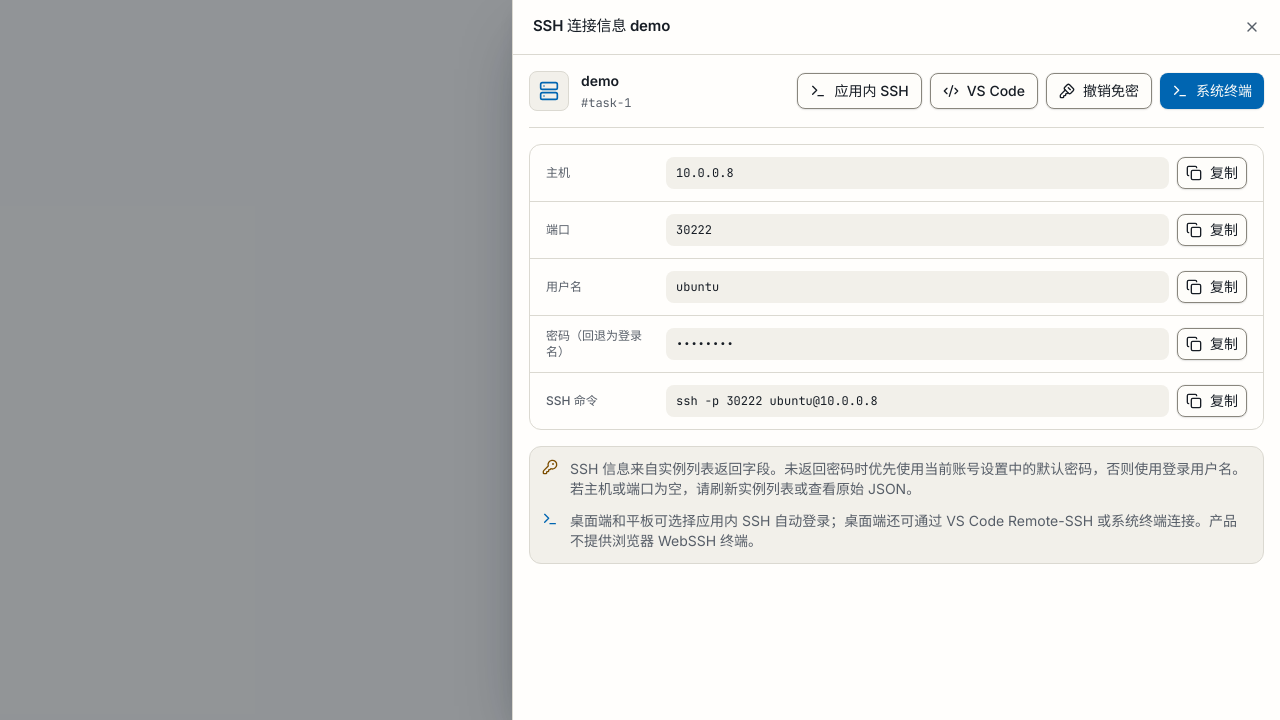
Test: TerminalDialog › shows desktop SSH entry points in the desktop runtime
This screenshot has width=1280, height=720.
Expected: the button "应用内 SSH" is shown, [797,73,922,109]
What coordinates should you click on to do the following:
click the button "VS Code"
I would click on:
 (984, 91)
Its box is [930,73,1038,109].
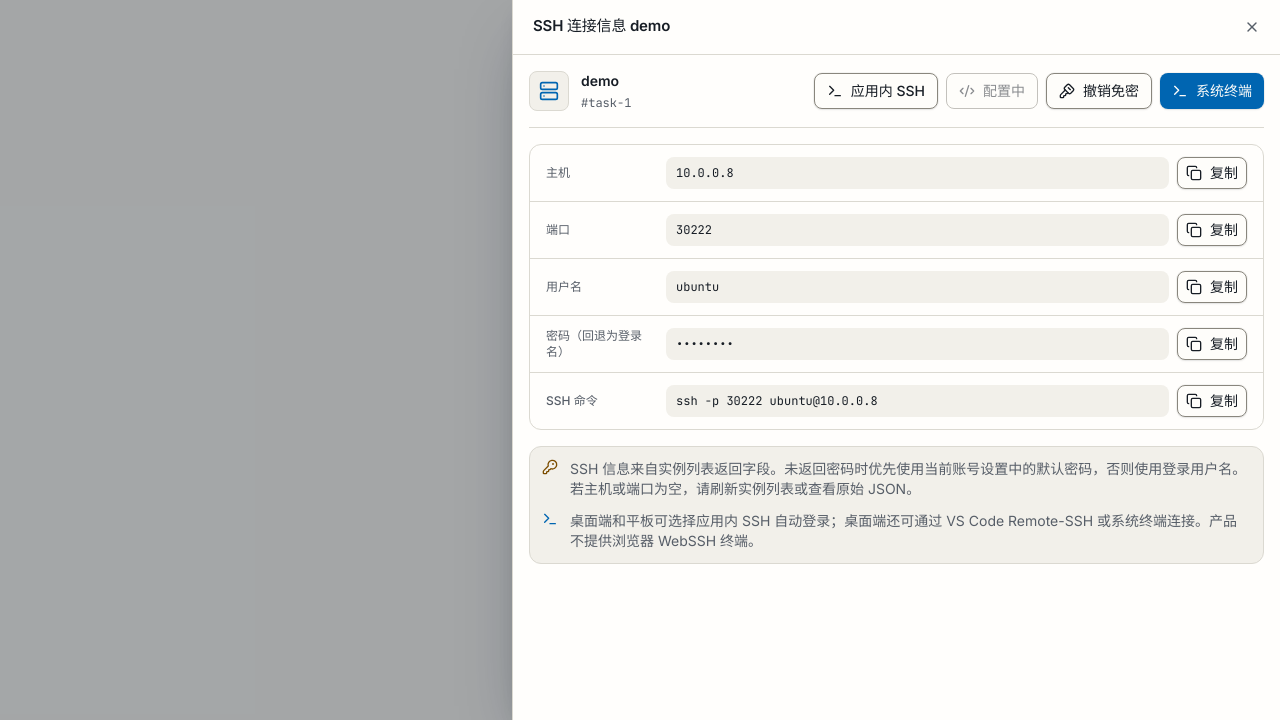
What coordinates should you click on to do the following:
click the button "系统终端"
I would click on:
 (1212, 91)
Its box is [1160,73,1264,109].
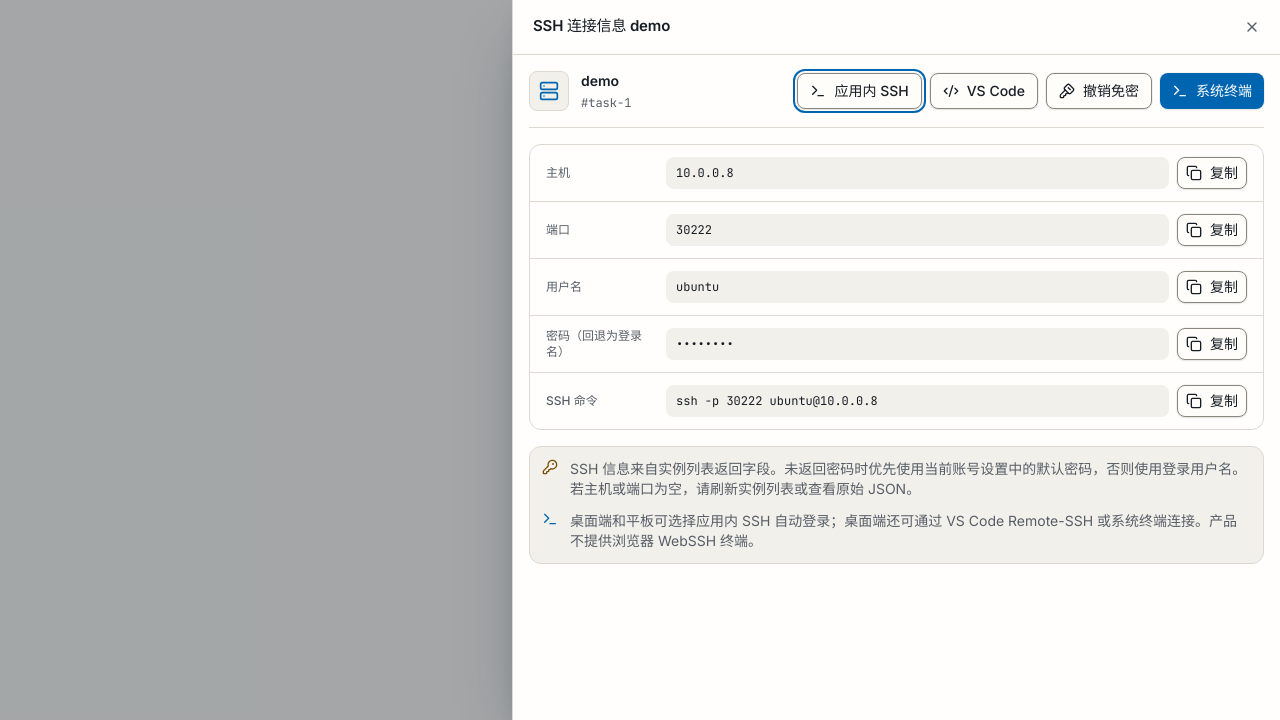
Result: the button "VS Code" is enabled at [930,73,1038,109]
